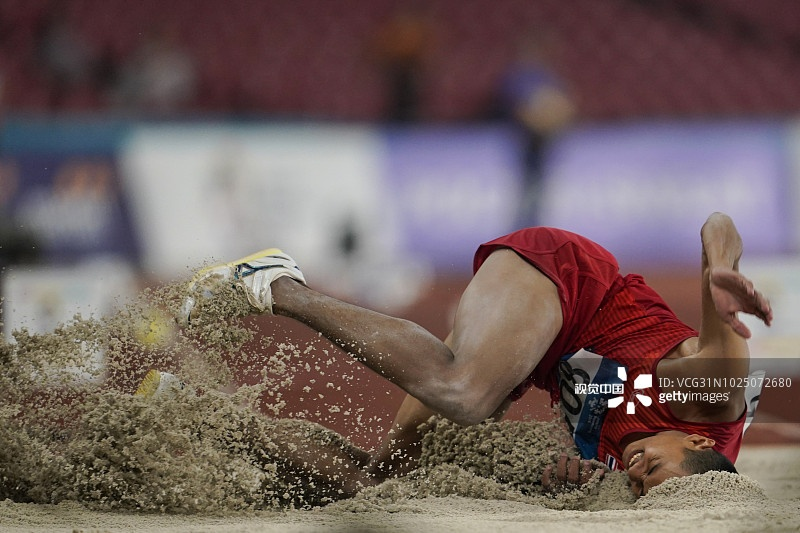falling: (26, 177, 787, 528)
